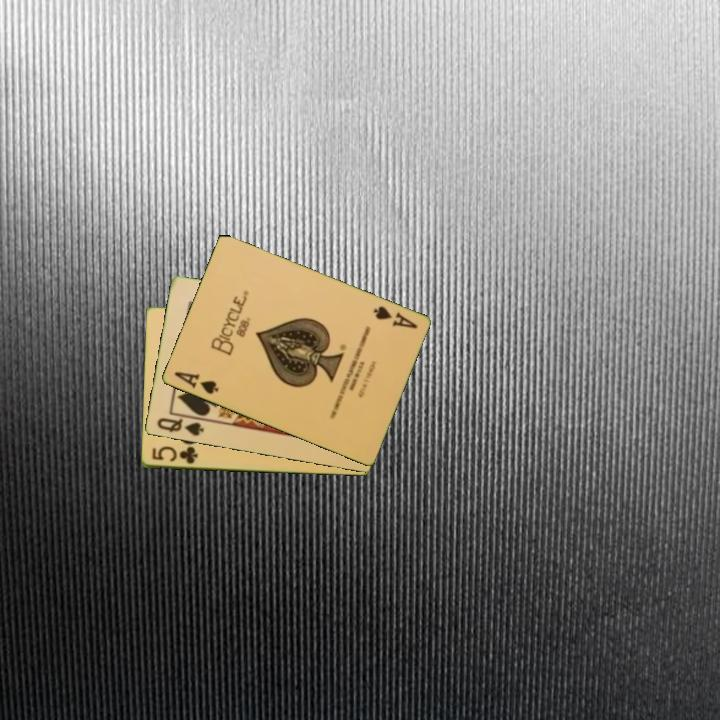5c: (148, 443, 200, 467)
As: (370, 302, 420, 332), (170, 368, 221, 397)
Qs: (153, 414, 206, 439)
